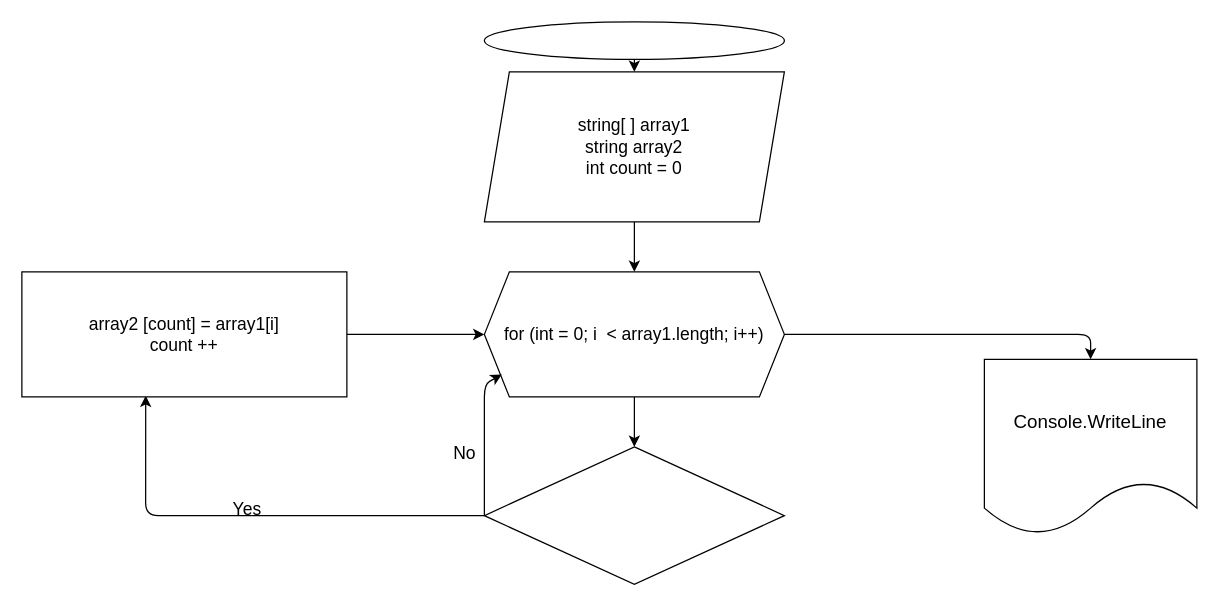
This 1219x606 diagram has some shape labels left out. The shapes that lost their labels are listed below. From the top down, each one's centre as x and y in pixels, then its label:
point 633,40: start
point 633,515: if ( array1{i]length <= 3 )
